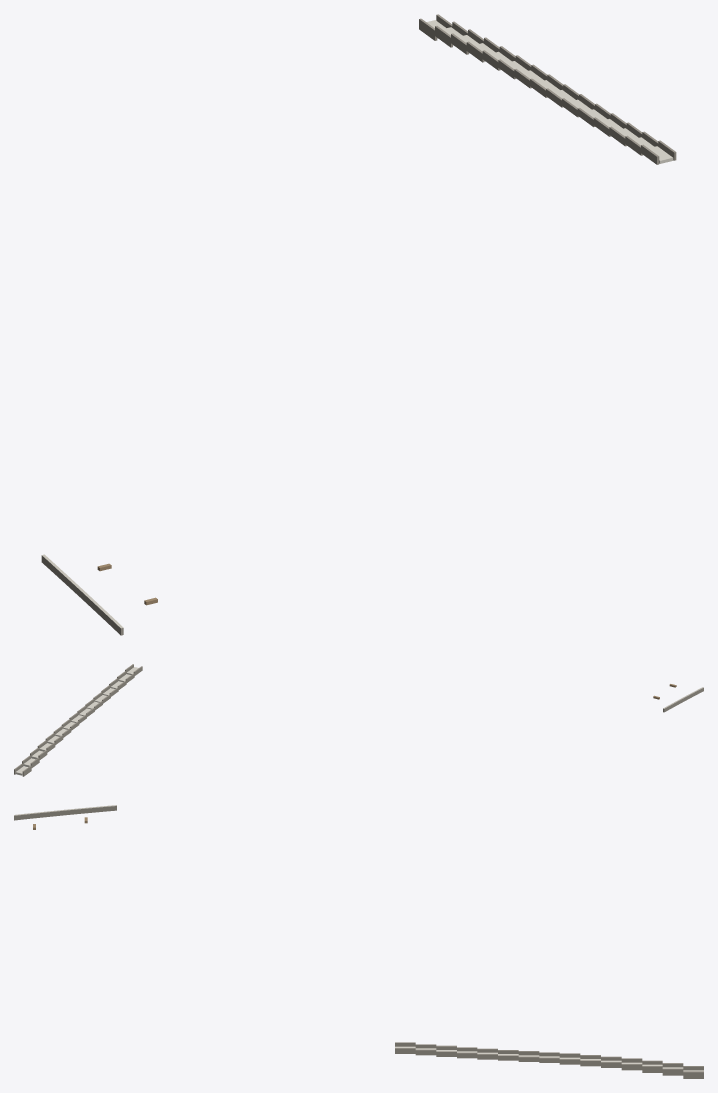
File: nw_shore_lh.glb
3 views of the same model, one above another, from view 1: azimuth 30°, elevation 25°; view 2: azimuth 150°, elevation 25°; view 3: azimuth 270°, elevation 25° (orthographic). The views are drawn at different scales.
Visible parts, largest first — view 1: nw_shore_lh_lod0; view 2: nw_shore_lh_lod0; view 3: nw_shore_lh_lod0.
Part boxes in pixels (x1,y1,x2,y2): nw_shore_lh_lod0: (41,14,676,635); nw_shore_lh_lod0: (14,664,703,776); nw_shore_lh_lod0: (14,805,703,1078).
Size of what is drawn, in the model's own units: 124 by 8.59 by 134.
